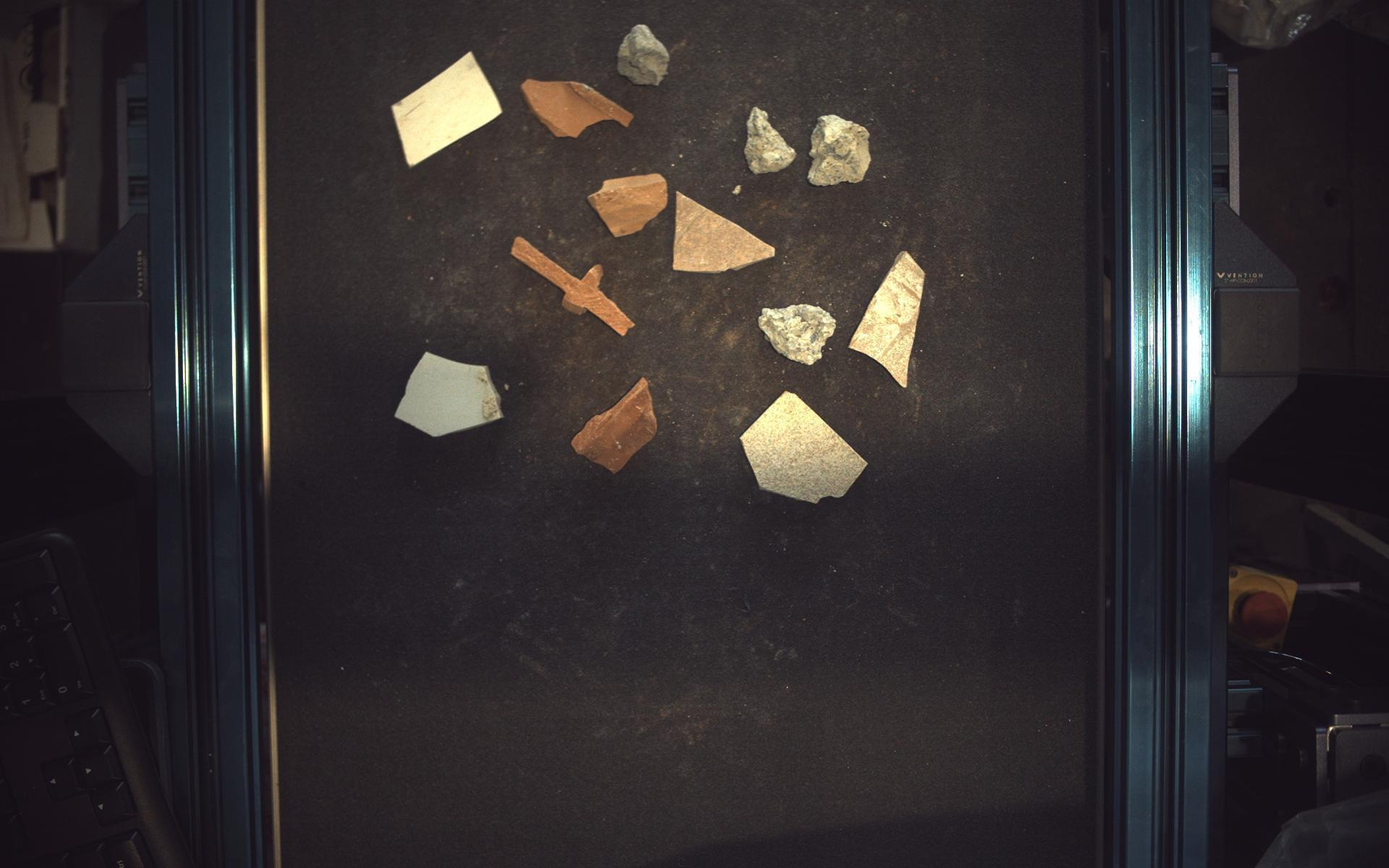brick: (511, 237, 634, 335), (572, 378, 658, 474), (674, 192, 776, 272), (522, 80, 634, 136), (589, 172, 668, 237)
concrete: (760, 304, 838, 365), (810, 114, 872, 185), (746, 106, 797, 173), (619, 23, 670, 84)
tile: (742, 392, 869, 503), (391, 51, 502, 165), (851, 250, 927, 388), (395, 352, 504, 437)
